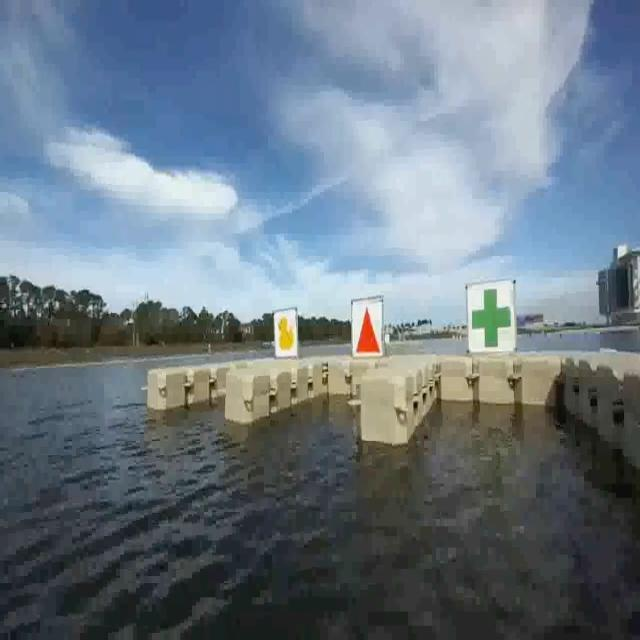blue-cross: (466, 282, 516, 352)
red-dot: (352, 301, 380, 352)
yellow-duck: (275, 313, 296, 356)
